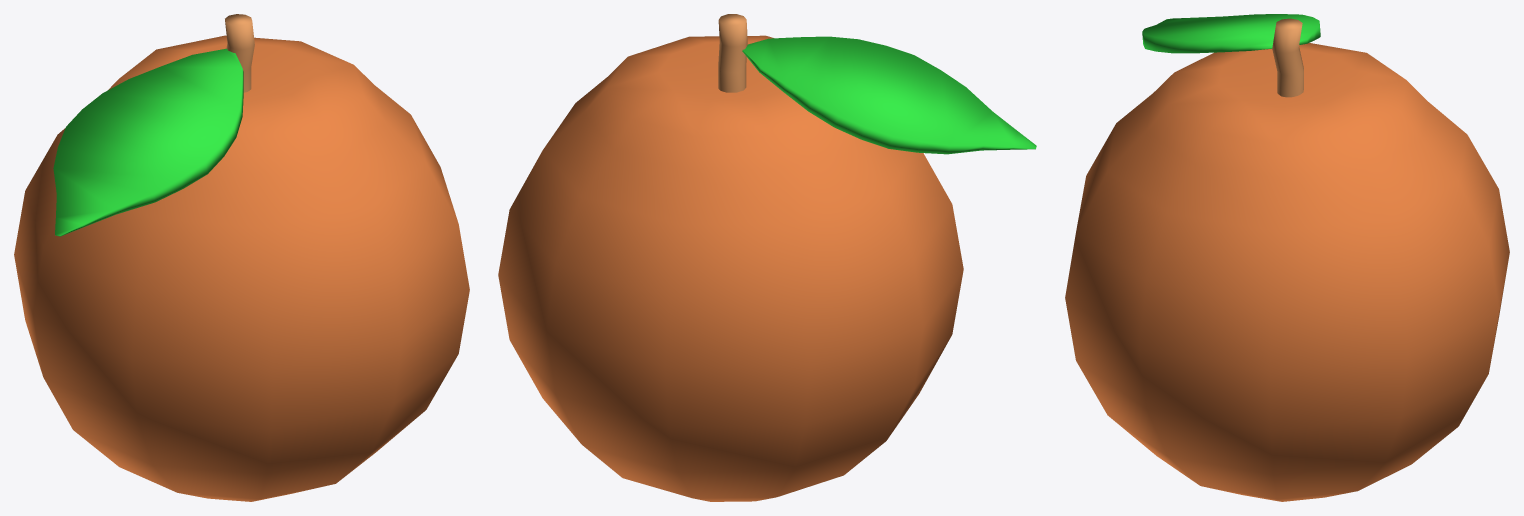
File: Orange.fbx
3 views of the same model, side by side, from view 1: azimuth 30°, elevation 25°; view 2: azimuth 150°, elevation 25°; view 3: azimuth 270°, elevation 25° (orthographic).
Parts seen in each view (by area): view 1: OrangeB; view 2: OrangeB; view 3: OrangeB.
Part boxes in pixels (bbox=[...]): OrangeB: bbox=[14, 14, 469, 501]; OrangeB: bbox=[498, 14, 1036, 501]; OrangeB: bbox=[1065, 14, 1509, 501].
Size of the model in its own units: 139 by 138 by 121.
